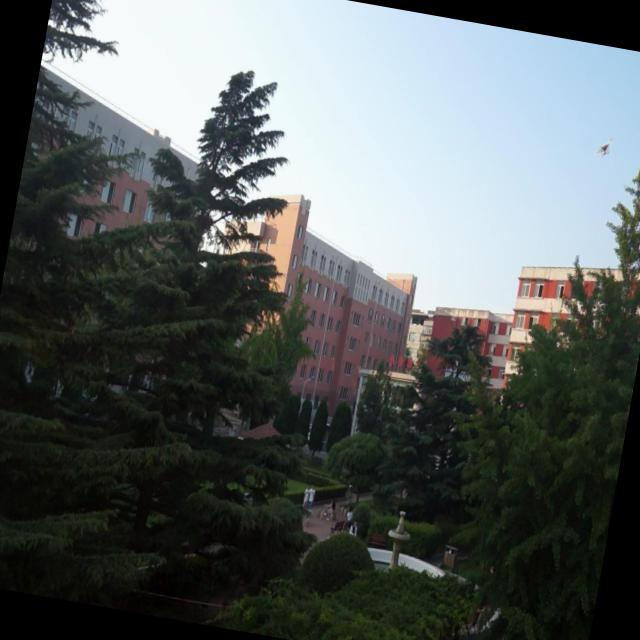drone: (596, 130, 616, 163)
